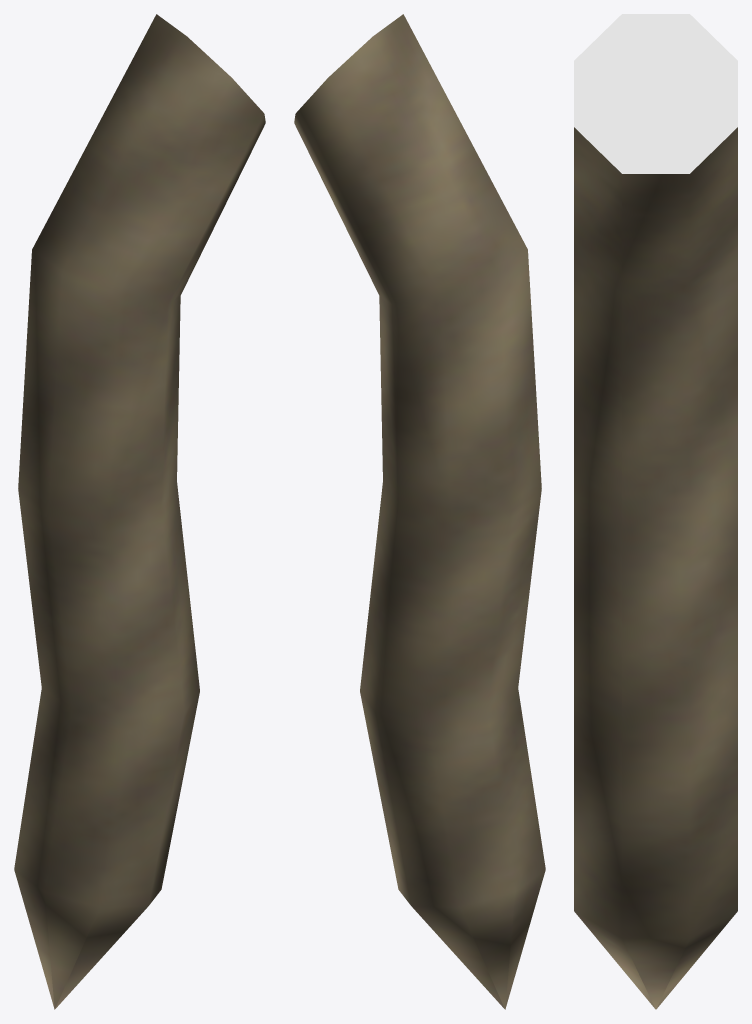
Rendered from Docks_Railing_Rope_Broken_1_1x1.glb.
The picture shows the model from 3 angles, left to right: view 1: azimuth 30°, elevation 25°; view 2: azimuth 150°, elevation 25°; view 3: azimuth 270°, elevation 25°; orthographic projection. The views are drawn at different scales.
Visible parts, largest first — view 1: Docks_Railing_Rope_Broken_1_1x1; view 2: Docks_Railing_Rope_Broken_1_1x1; view 3: Docks_Railing_Rope_Broken_1_1x1.
Boxes of the visible parts, x1,y1,x2,y2 form: Docks_Railing_Rope_Broken_1_1x1: (14, 14, 265, 1009); Docks_Railing_Rope_Broken_1_1x1: (294, 14, 545, 1009); Docks_Railing_Rope_Broken_1_1x1: (574, 14, 737, 1009).
Size of what is drawn, in the model's own units: 10.78 by 44.55 by 6.25.
Materials: 2 (1 with a texture image).
